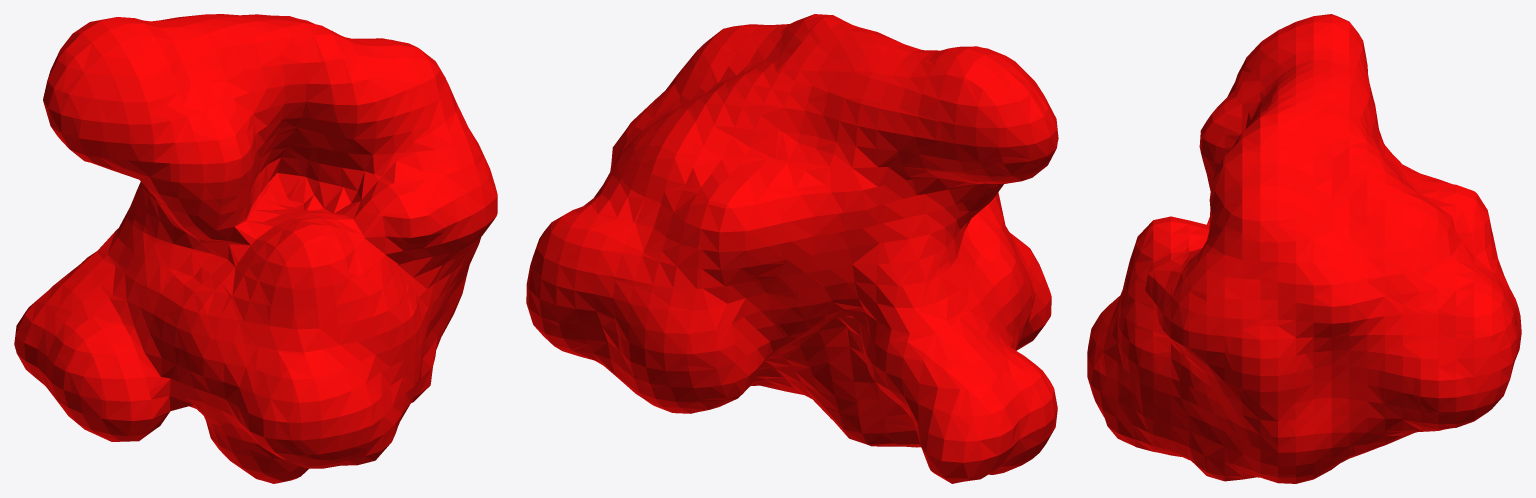
File: nadE_coarse.dae
3 renders of one model, left to right at view 1: azimuth 30°, elevation 25°; view 2: azimuth 150°, elevation 25°; view 3: azimuth 270°, elevation 25°, orthographic. The views are drawn at different scales.
Visible parts, largest first — view 1: nadE; view 2: nadE; view 3: nadE.
Part boxes in pixels (<box>): nadE: <box>14,14,497,483</box>; nadE: <box>526,14,1058,483</box>; nadE: <box>1087,14,1521,483</box>.
Bounding box in the file's own units: 54.45 × 54.45 × 53.99.
